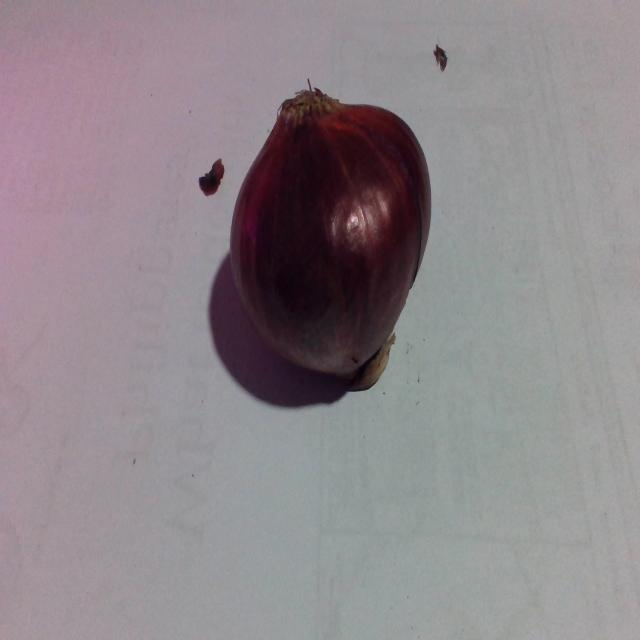onion: (210, 49, 461, 412)
